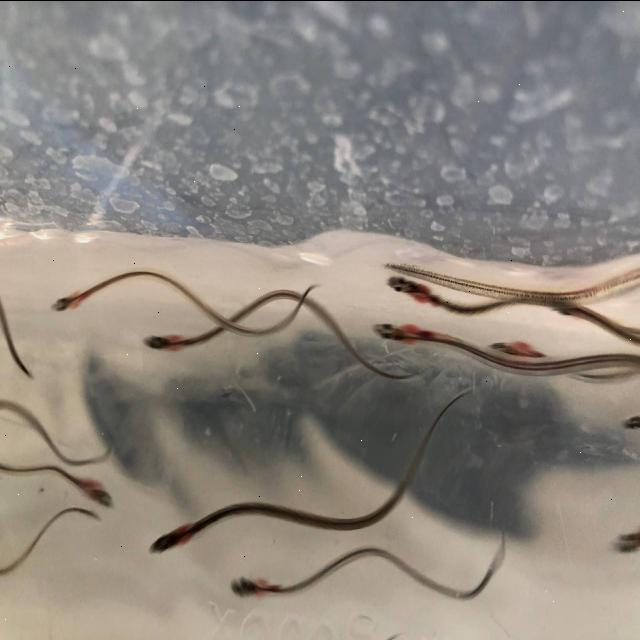glass_eel: (382, 264, 452, 314), (226, 564, 283, 612), (374, 313, 446, 351), (484, 328, 546, 370), (146, 521, 203, 566), (78, 468, 119, 516), (46, 275, 88, 319), (138, 324, 182, 362), (605, 522, 640, 568), (618, 404, 640, 436)
